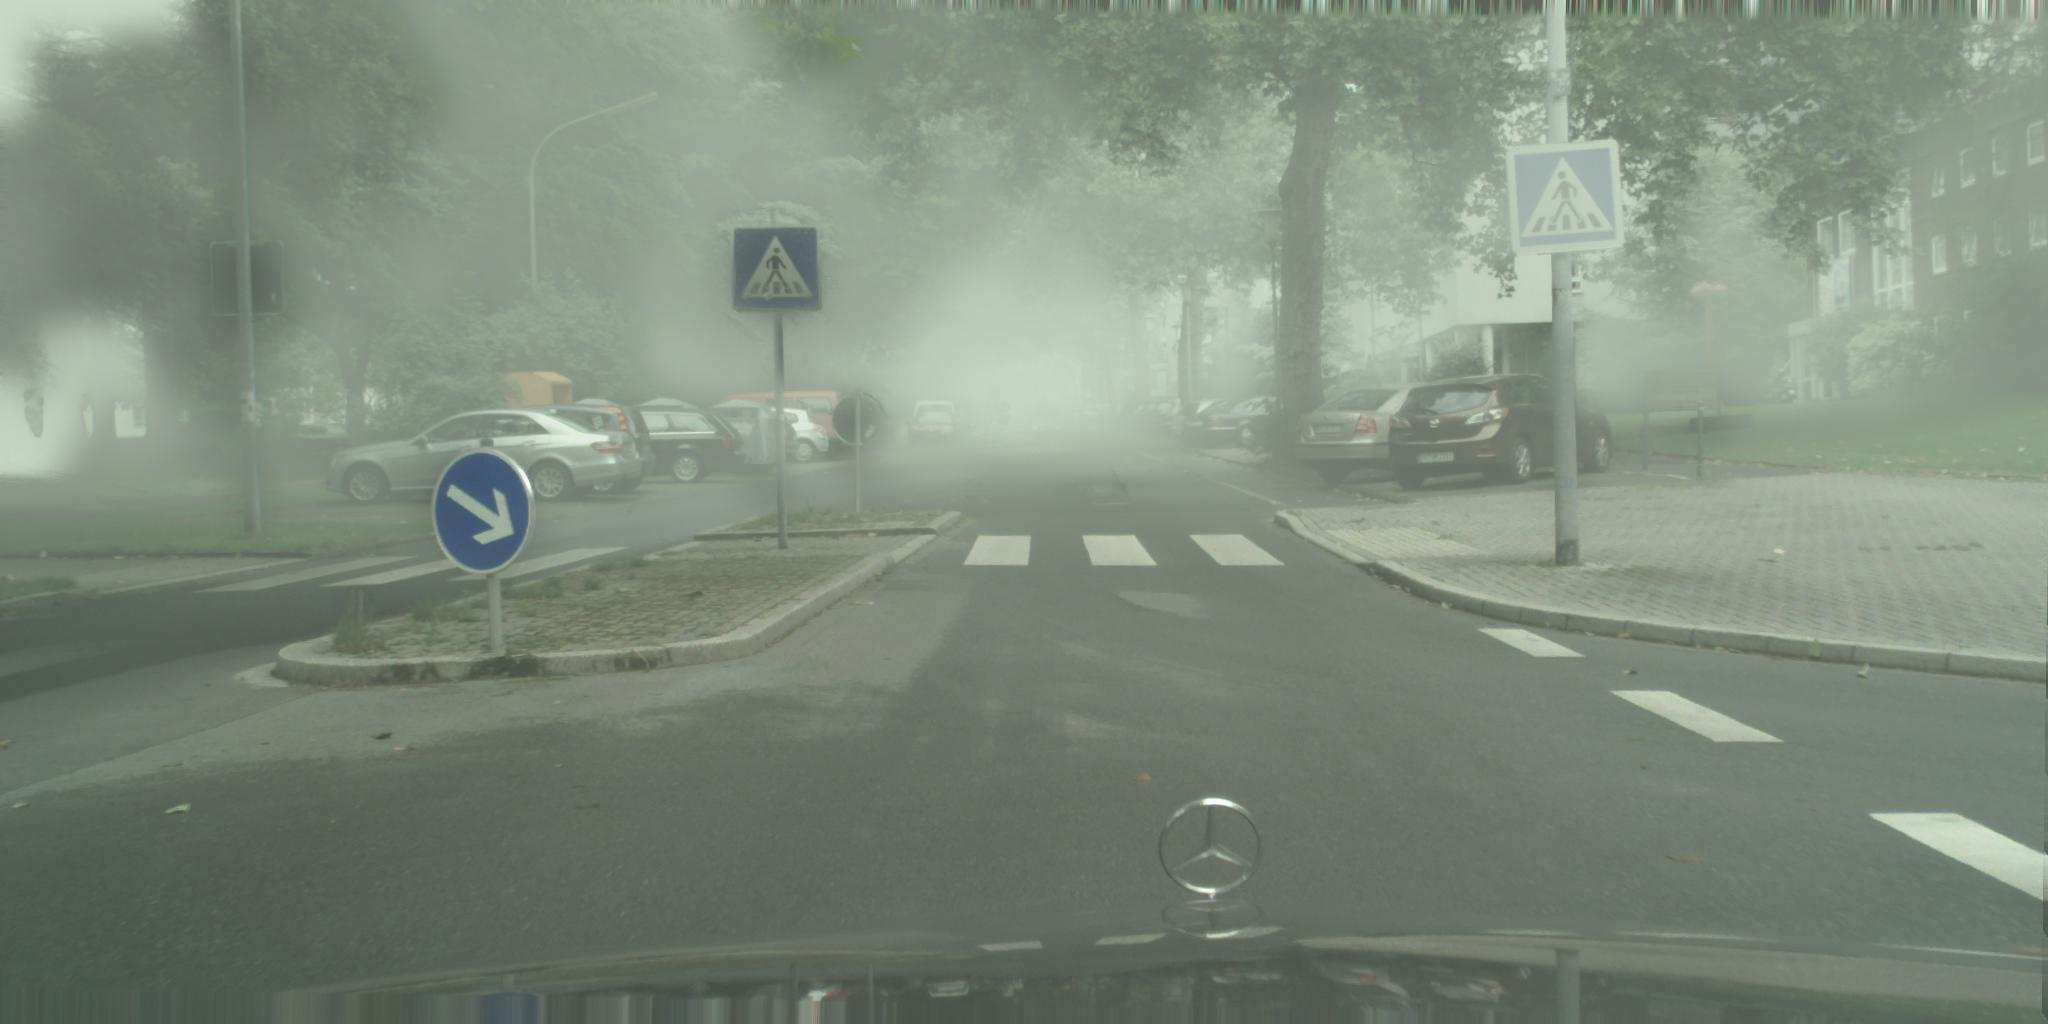car: (327, 410, 644, 505), (1388, 374, 1613, 490), (1294, 383, 1456, 485), (486, 404, 658, 494), (605, 408, 755, 485), (705, 392, 857, 461), (730, 408, 829, 464), (1181, 396, 1277, 451), (1173, 398, 1262, 451), (837, 405, 896, 455), (905, 410, 965, 451), (1145, 400, 1183, 441), (1125, 404, 1166, 439), (1110, 404, 1156, 434), (913, 401, 957, 428), (938, 408, 972, 439), (1031, 404, 1063, 430), (1125, 404, 1149, 438), (960, 411, 993, 436), (1081, 405, 1110, 430), (1102, 411, 1125, 434), (980, 411, 987, 432), (984, 411, 993, 428)
motorcycle: (1772, 366, 1800, 405)
